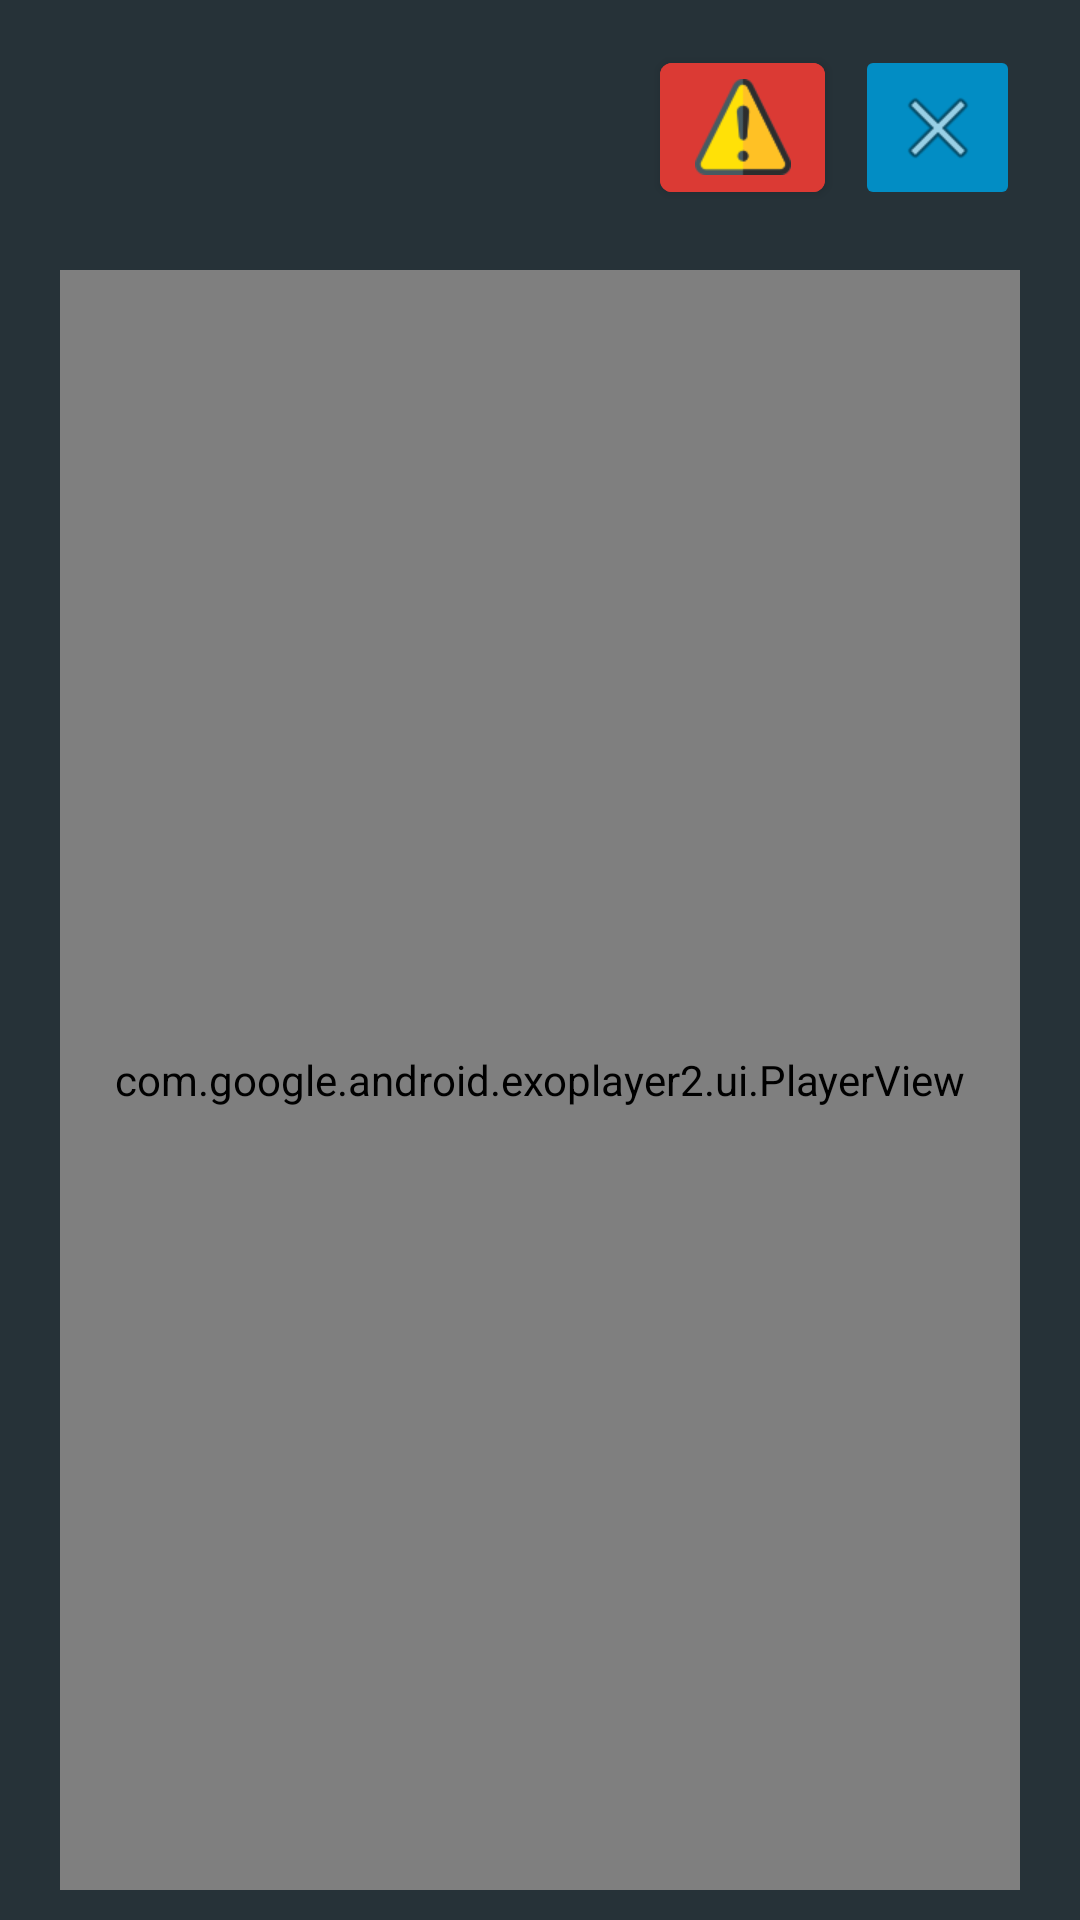

Icons on this 1080*1920 Android screen, each with its box as (left=x1, top=y1, right=x2, bottom=y2):
alert: (left=660, top=63, right=825, bottom=192)
close clear cancel: (left=867, top=63, right=1008, bottom=192)
